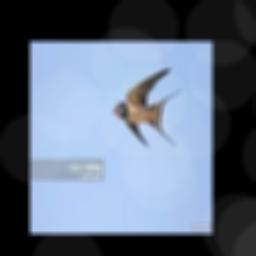Swallow: (113, 68, 182, 148)
